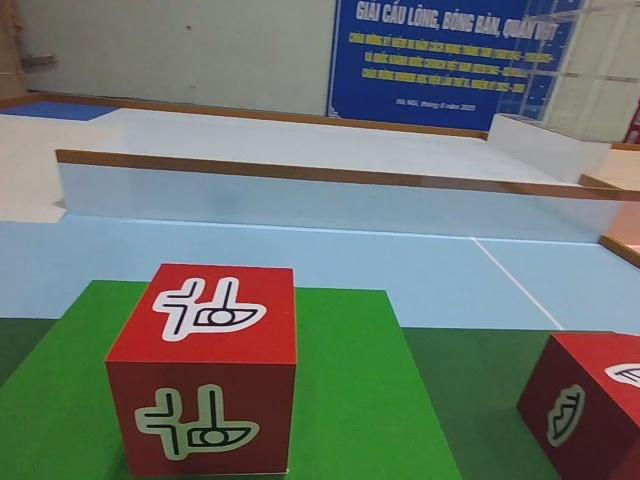R2 Real: (105, 263, 292, 480), (515, 334, 640, 479)
